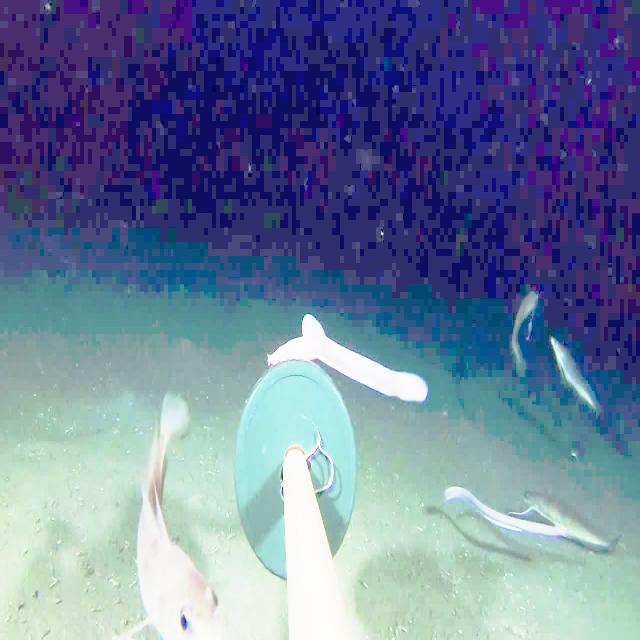eel: (257, 303, 437, 422), (435, 470, 578, 557)
fish: (513, 464, 632, 577), (547, 325, 615, 434), (508, 281, 540, 384)
pole: (232, 358, 359, 639), (118, 370, 235, 639)
